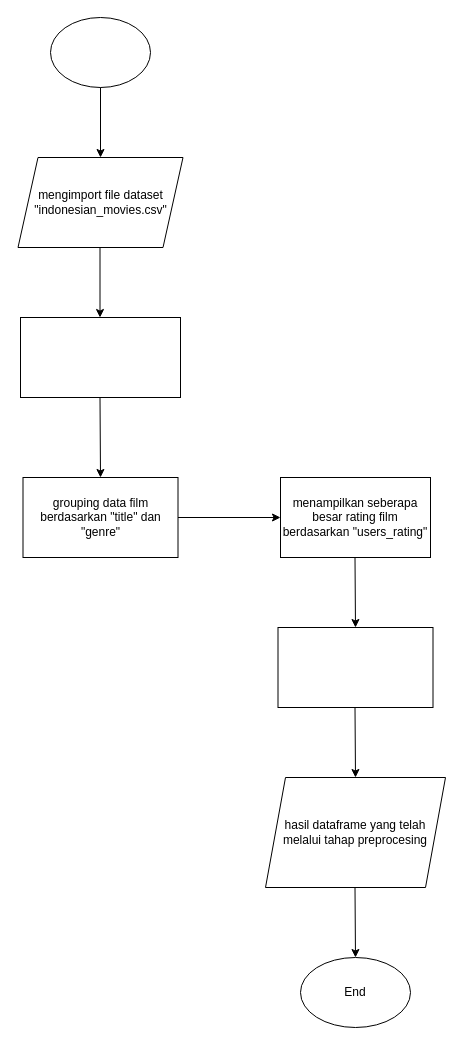
Some shapes in this 463 by 1045 pixel diagram are drawn without their labels. The shapes that lost their labels are listed below. From the top down, each one's box as (x1, y1, x2, y2) in pixels, then its label:
(50, 16, 150, 88): Start
(20, 316, 180, 398): filter data untuk film yang rilis pada "year" atau tahun 2020
(277, 626, 433, 708): Mengubah bentuk data hasil proses grouping ke dalam dataframe
